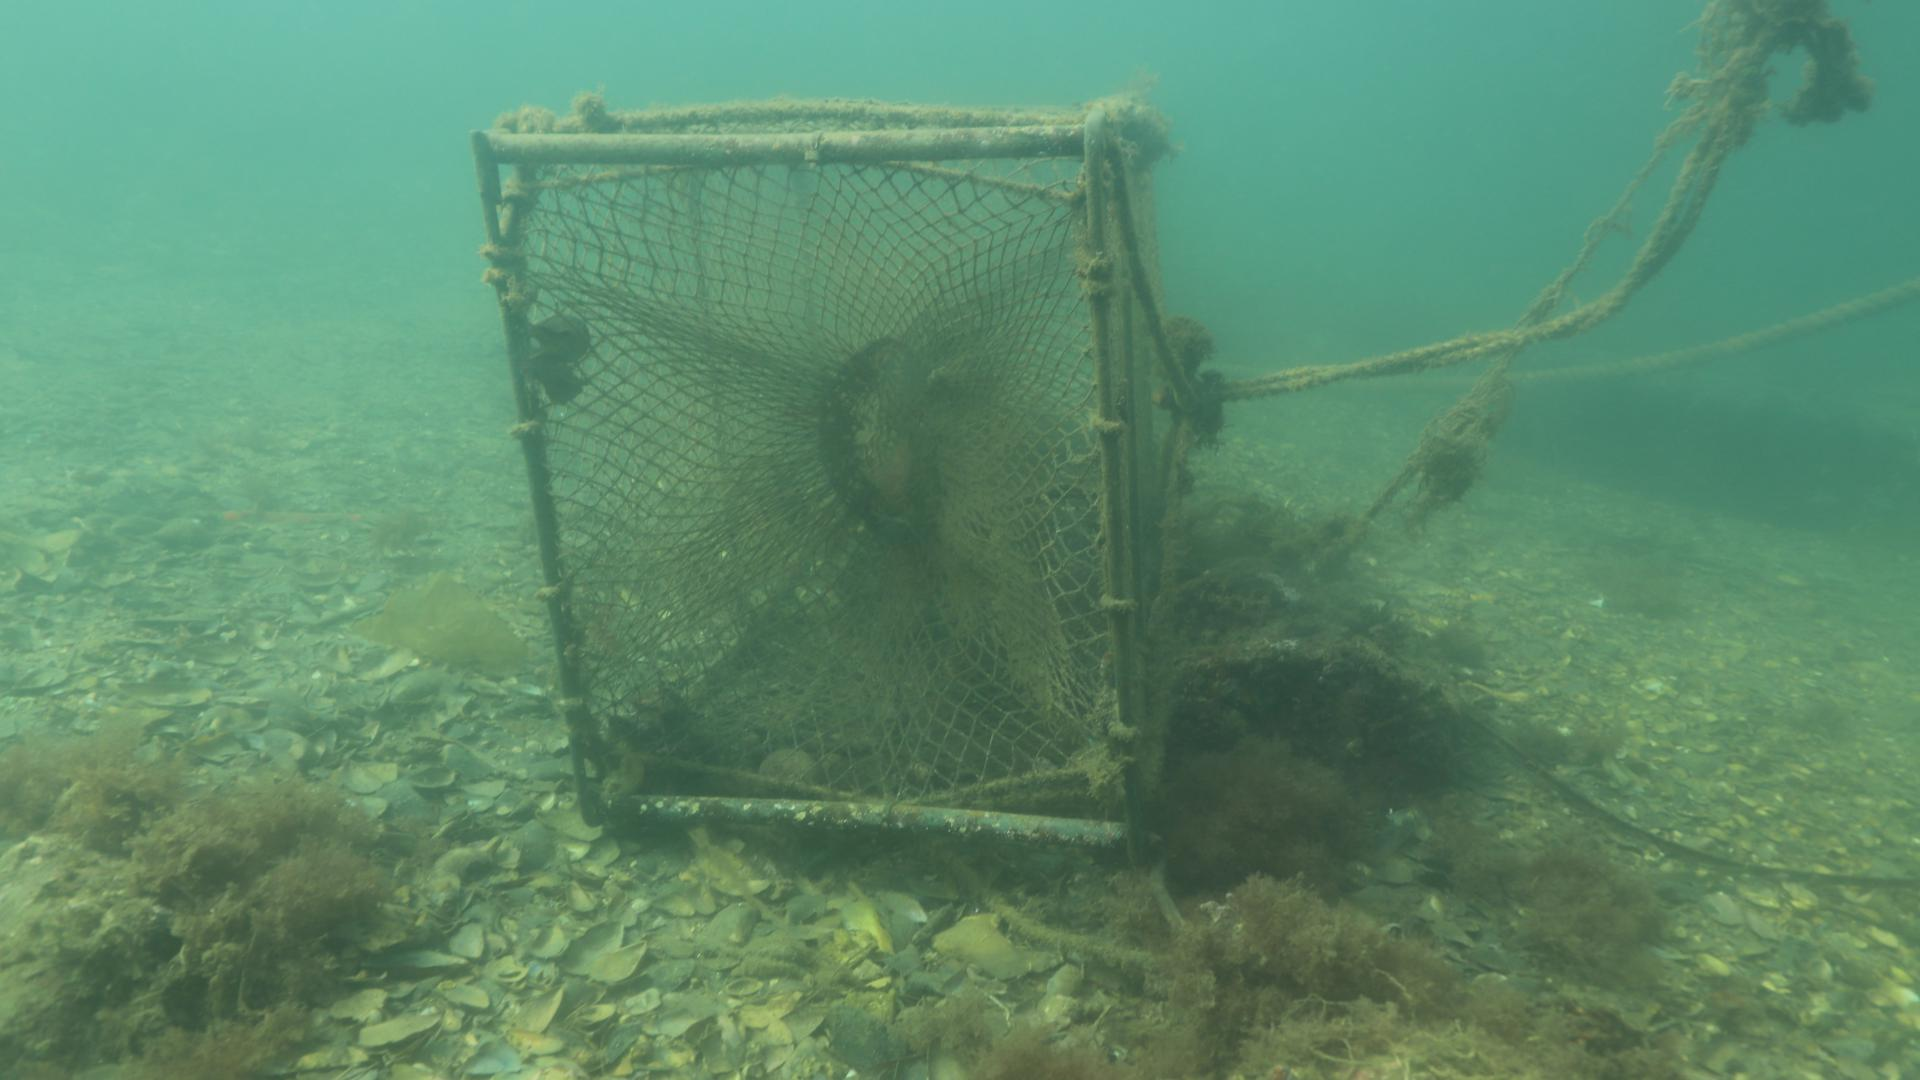bundle of ropes: (1151, 0, 1759, 588)
rectangular fish trap: (468, 95, 1153, 853)
